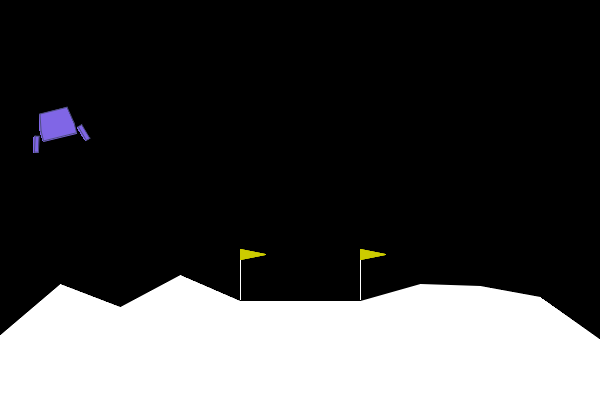lander: (23, 102, 91, 155)
